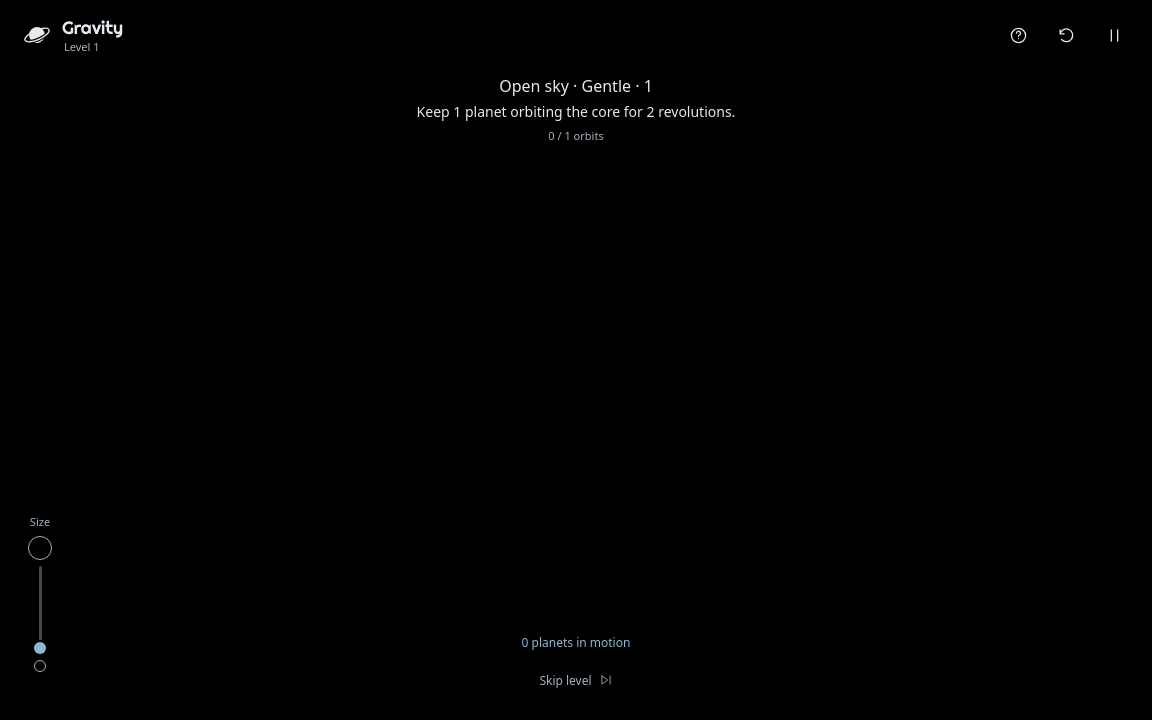
Test: updates mounted menus from storage changes and clearing the saved setting
The width and height of the screenshot is (1152, 720).
Click the button named "Pause" at (1114, 35), box [1092, 13, 1136, 57]
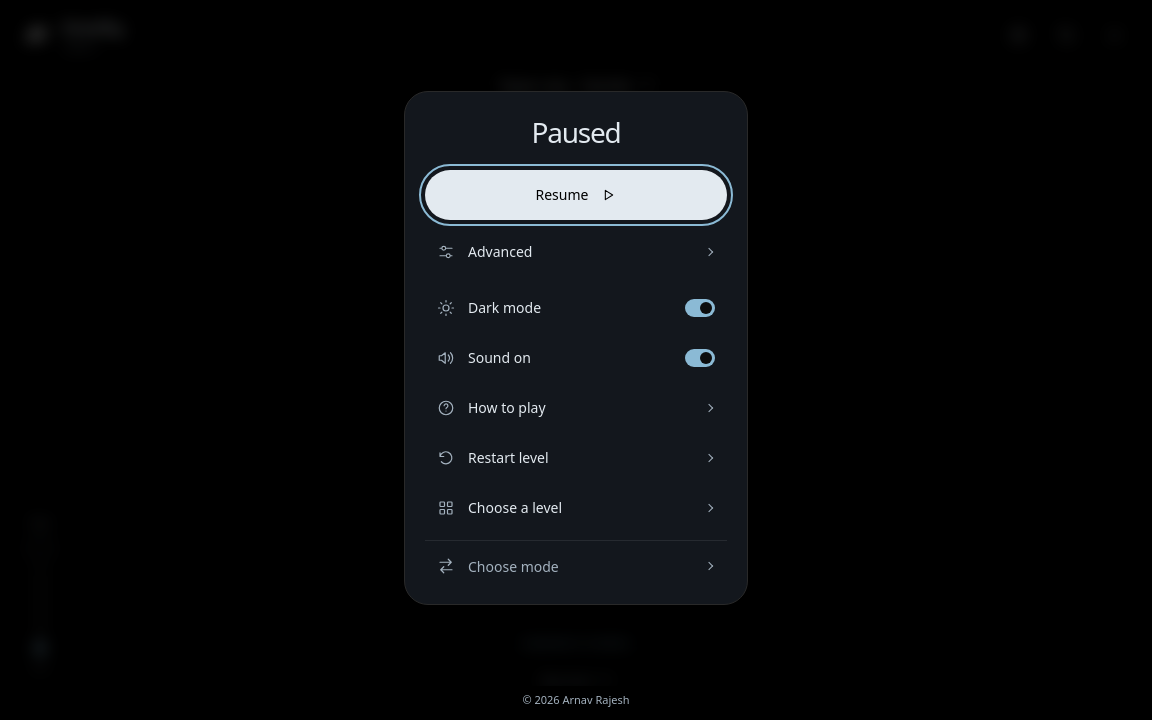
Result: the button "Sound on" is shown at [425, 334, 727, 382]
